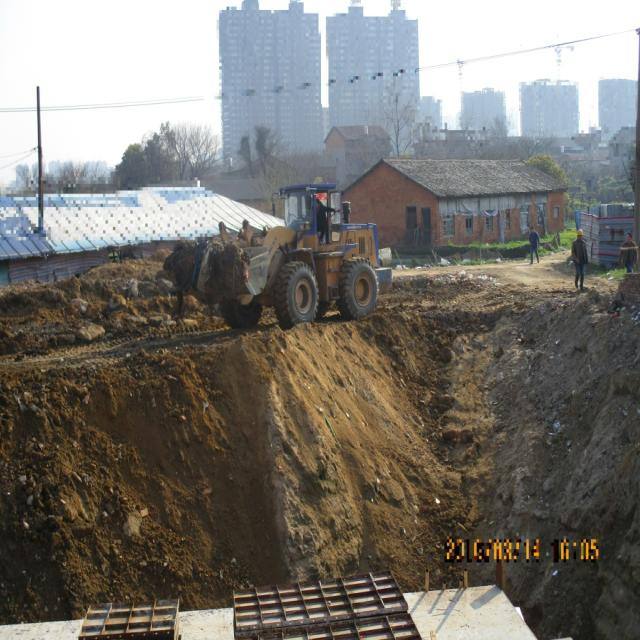machinery: (188, 182, 391, 329)
